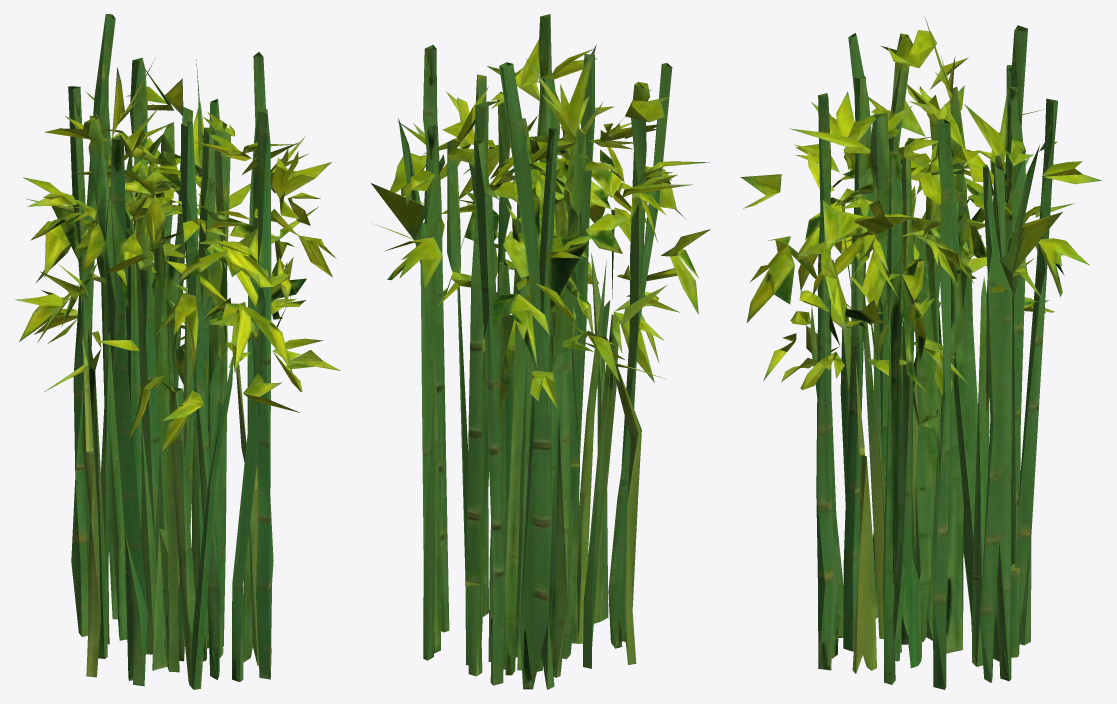
Rendered from bamboo.glb.
The picture shows the model from 3 angles, left to right: view 1: azimuth 30°, elevation 25°; view 2: azimuth 150°, elevation 25°; view 3: azimuth 270°, elevation 25°; orthographic projection. The views are drawn at different scales.
Size of the model in its own units: 0.9676 by 1.9 by 1.02.
Materials: 1 (1 with a texture image).
